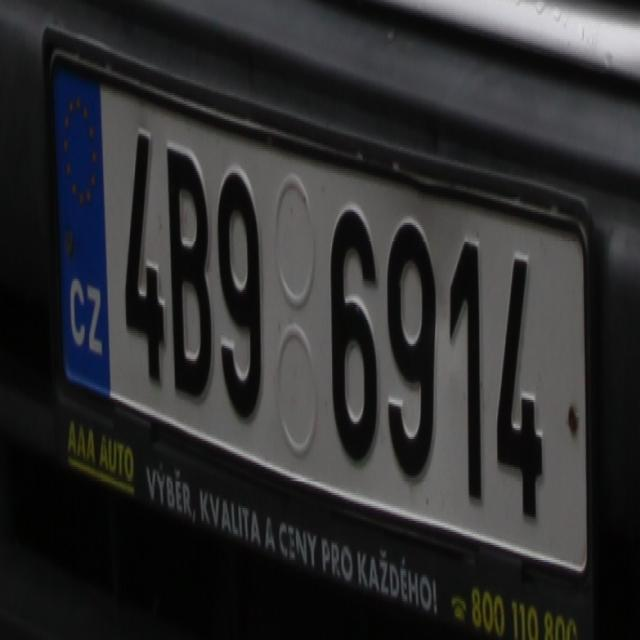1: (446, 232, 486, 510)
4: (494, 253, 547, 519), (119, 126, 165, 390)
6: (327, 193, 379, 472)
9: (386, 216, 437, 480), (218, 167, 262, 415)
B: (165, 136, 212, 402)
